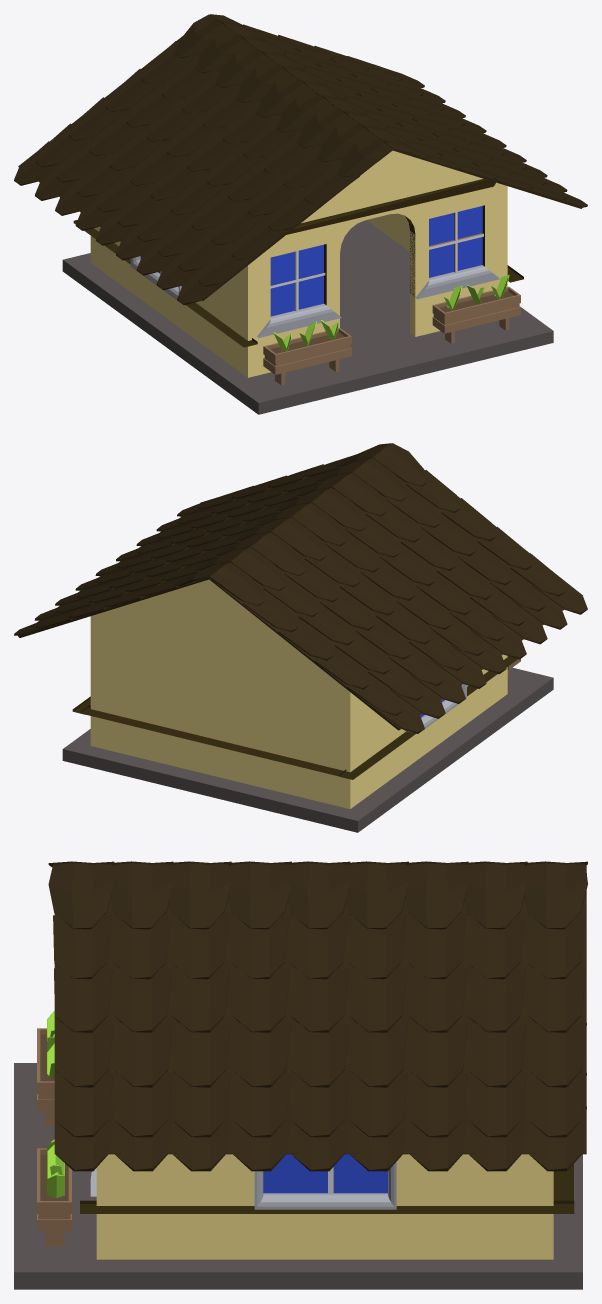
Rendered from HOUSENEWBEBALDU.glb.
3 views of the same model, one above another, from view 1: azimuth 30°, elevation 25°; view 2: azimuth 150°, elevation 25°; view 3: azimuth 270°, elevation 25° (orthographic). The views are drawn at different scales.
Visible parts, largest first — view 1: Namas; view 2: Namas; view 3: Namas.
Part boxes in pixels (<box>): Namas: <box>14,14,587,414</box>; Namas: <box>14,443,587,832</box>; Namas: <box>14,861,587,1289</box>.
Bounding box in the file's own units: 10.9 × 5.69 × 9.2.
